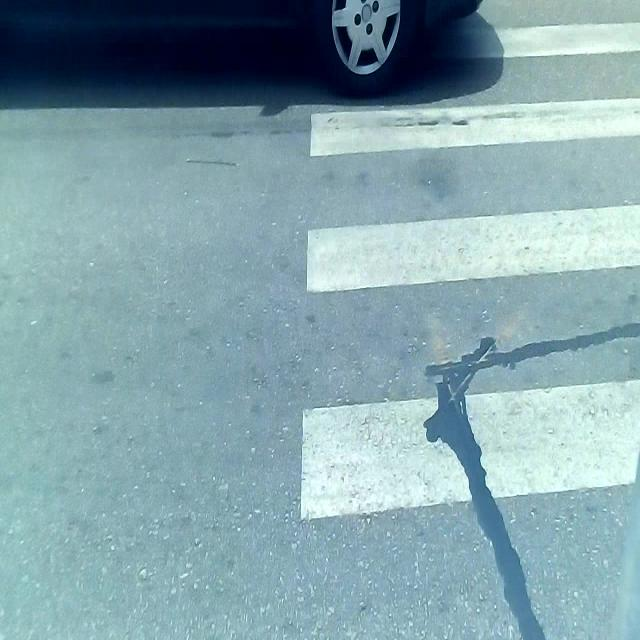crosswalk: (291, 0, 640, 640)
